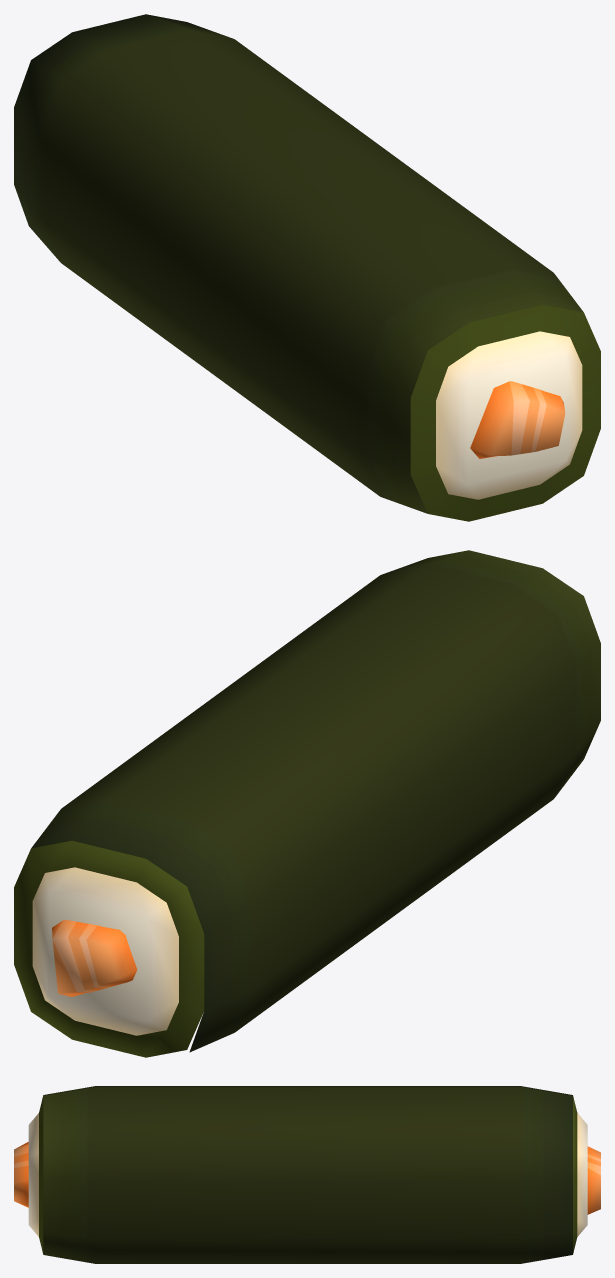
Rendered from Sushi_Long_Nori_004.gltf.
3 views of the same model, one above another, from view 1: azimuth 30°, elevation 25°; view 2: azimuth 150°, elevation 25°; view 3: azimuth 270°, elevation 25° (orthographic). The views are drawn at different scales.
Parts seen in each view (by area): view 1: Sushi_Long_Nori_004_x; view 2: Sushi_Long_Nori_004_x; view 3: Sushi_Long_Nori_004_x.
Boxes of the visible parts, x1=… form: Sushi_Long_Nori_004_x: x1=14, y1=14, x2=600, y2=521; Sushi_Long_Nori_004_x: x1=14, y1=550, x2=600, y2=1057; Sushi_Long_Nori_004_x: x1=14, y1=1086, x2=600, y2=1263.
Size of the model in its own units: 0.7114 by 0.7114 by 2.56.
1 material, 1 textured.
